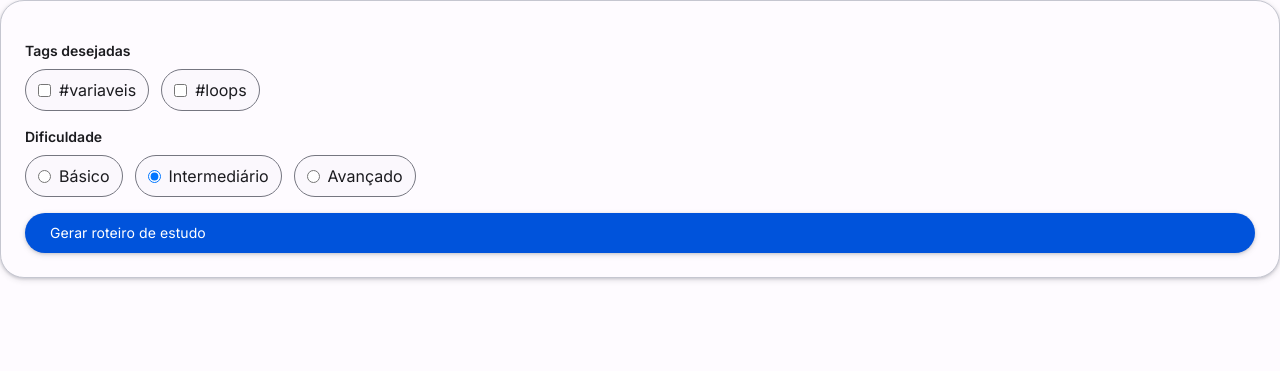
Test: New exercise blocks › generates output in TestGenerator
The width and height of the screenshot is (1280, 371).
Click the button "Gerar roteiro de estudo".
click(128, 232)  # box [25,213,1255,253]
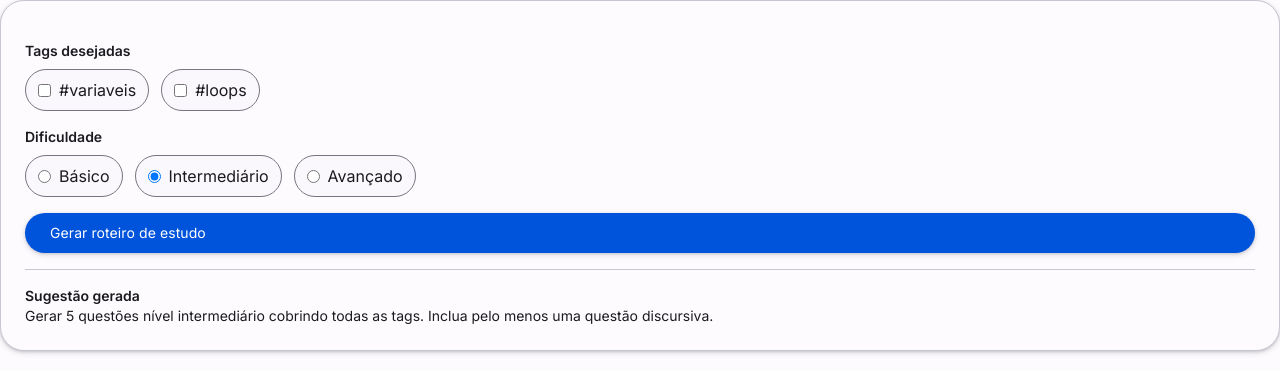
Expected: the text "Gerar 5 questões" is shown, [25,307,713,324]
